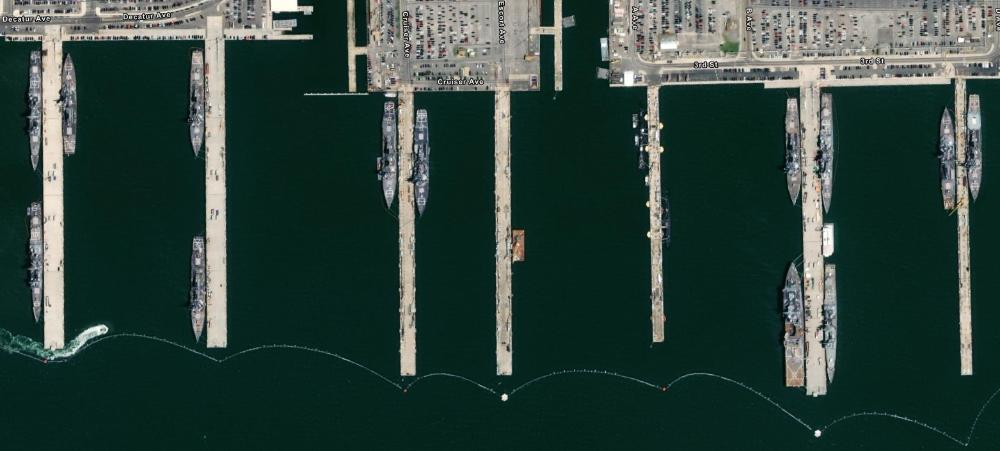destroyer: (26, 202, 48, 324), (823, 263, 842, 384), (819, 91, 836, 218), (28, 47, 43, 176)
fregate: (57, 54, 82, 160), (413, 105, 435, 218), (186, 48, 208, 159), (783, 95, 804, 207), (966, 88, 986, 204), (938, 103, 959, 211), (190, 235, 210, 346), (380, 99, 399, 208)
submarine: (638, 107, 648, 172), (663, 193, 673, 243)
